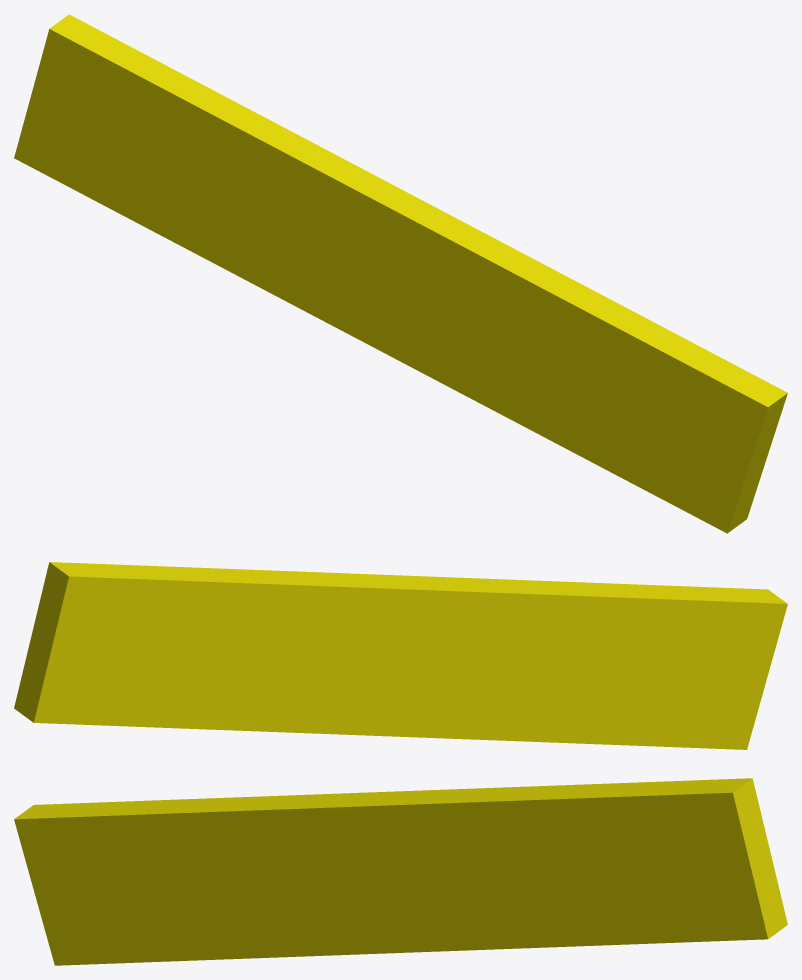
Rendered from CNT_PlankInHandle.fbx.
3 renders of one model, top to bottom at view 1: azimuth 90°, elevation 25°; view 2: azimuth 150°, elevation 25°; view 3: azimuth 270°, elevation 25°, orthographic.
Parts seen in each view (by area): view 1: CNT_PlankInHandle; view 2: CNT_PlankInHandle; view 3: CNT_PlankInHandle.
Part boxes in pixels (box(x1,y1,x2,y2)): CNT_PlankInHandle: box(14, 14, 787, 533); CNT_PlankInHandle: box(14, 562, 787, 749); CNT_PlankInHandle: box(14, 778, 787, 965).
Bounding box in the file's own units: 6.46 × 5.13 × 10.61.
